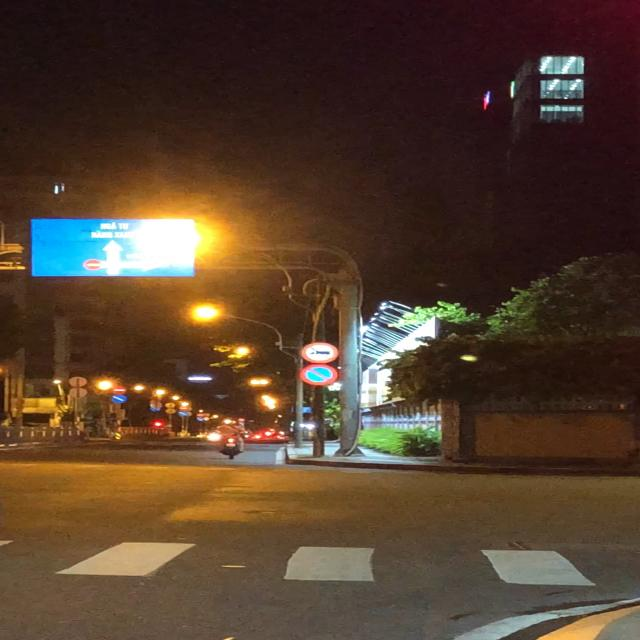Bien bao cam do xe: (294, 363, 342, 387)
Bien bao cam xe so-mi ro-mooc: (293, 339, 341, 364)
